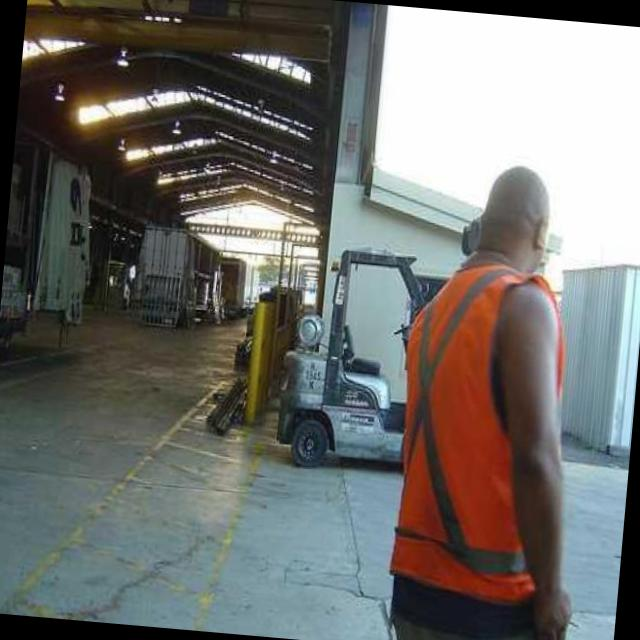forklift: (275, 243, 430, 474)
person: (385, 146, 606, 640)
